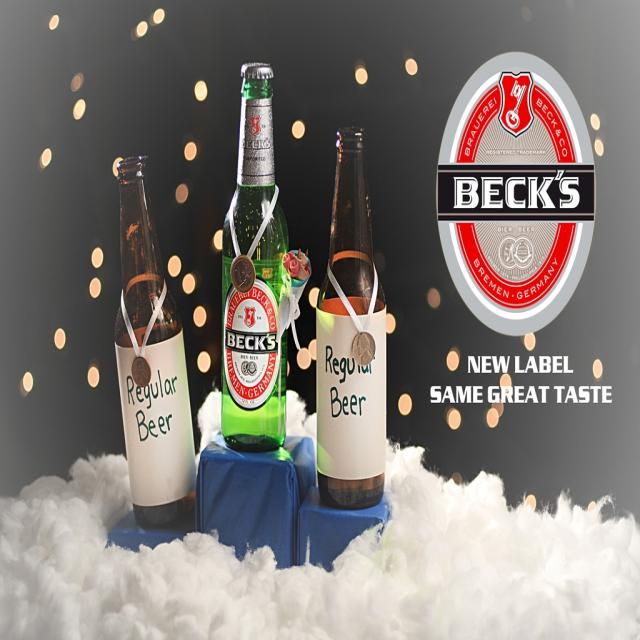becks: (437, 51, 597, 336), (223, 276, 282, 409)
